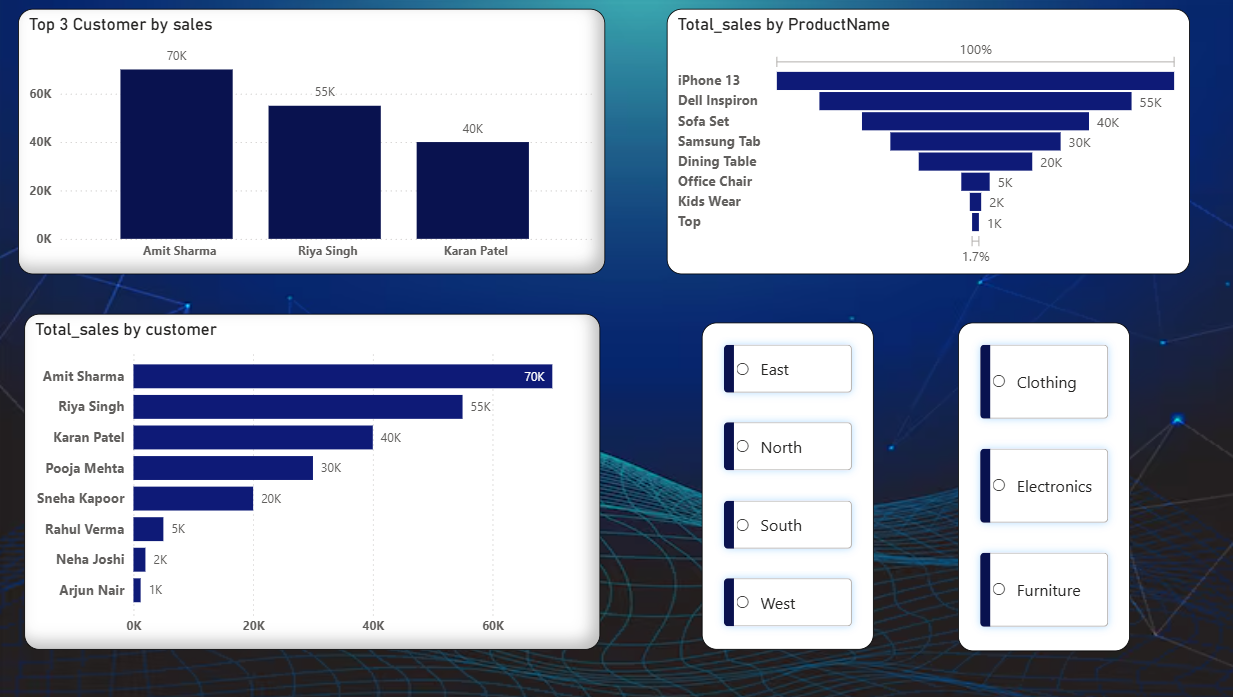

The page's visual inventory and layout, read from the dashboard file:
{"tool":"powerbi","page":{"name":"Customer Insights","canvas":[1280,720],"ordinal":2},"visuals":[{"type":"clusteredColumnChart","title":"Top 3 Customer by sales","fields":{"Category":["Table.Full_name"],"Y":["Table.Total_sales"]},"box":[19.7,13.5,587.2,265.9],"z":0},{"type":"clusteredBarChart","title":"Total_sales by customer","fields":{"Y":["Table.Total_sales"],"Category":["Table.Full_name"]},"box":[25.9,318.8,576.1,336.1],"z":1000},{"type":"funnel","fields":{"Category":["Table.ProductName"],"Y":["Table.Total_sales"]},"box":[668.4,13.5,523.2,265.9],"z":2000},{"type":"advancedSlicerVisual","fields":{"Values":["Table.Region"]},"box":[704.1,327.4,172.3,327.4],"z":3000},{"type":"advancedSlicerVisual","fields":{"Values":["Table.Category"]},"box":[960.2,327.4,172.3,328.7],"z":4000}]}

Visuals, with their boxes in screenshot pixels (x1, y1, x2, y2), scaled from the page's 1280x720 canvas onto the 1233x697 screenshot:
"Top 3 Customer by sales" clusteredColumnChart: 19, 13, 585, 270
"Total_sales by customer" clusteredBarChart: 25, 309, 580, 634
funnel - Table.ProductName x Table.Total_sales: 644, 13, 1148, 270
advancedSlicerVisual - Table.Region: 678, 317, 844, 634
advancedSlicerVisual - Table.Category: 925, 317, 1091, 635
